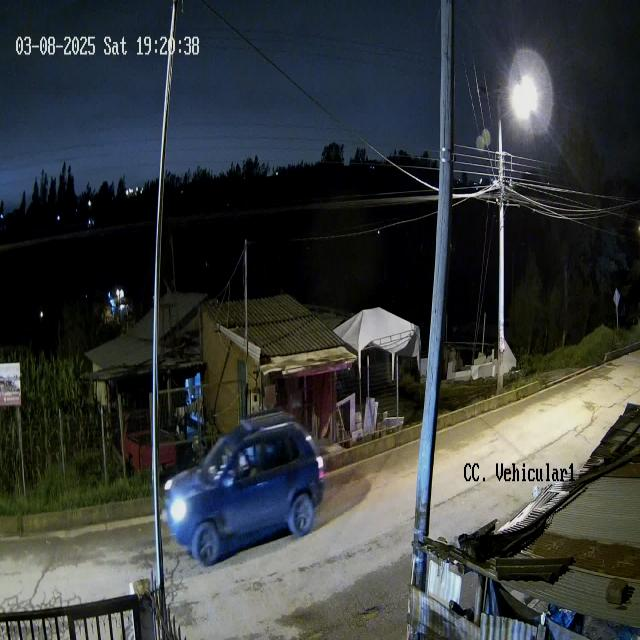SUV: (161, 412, 319, 566)
